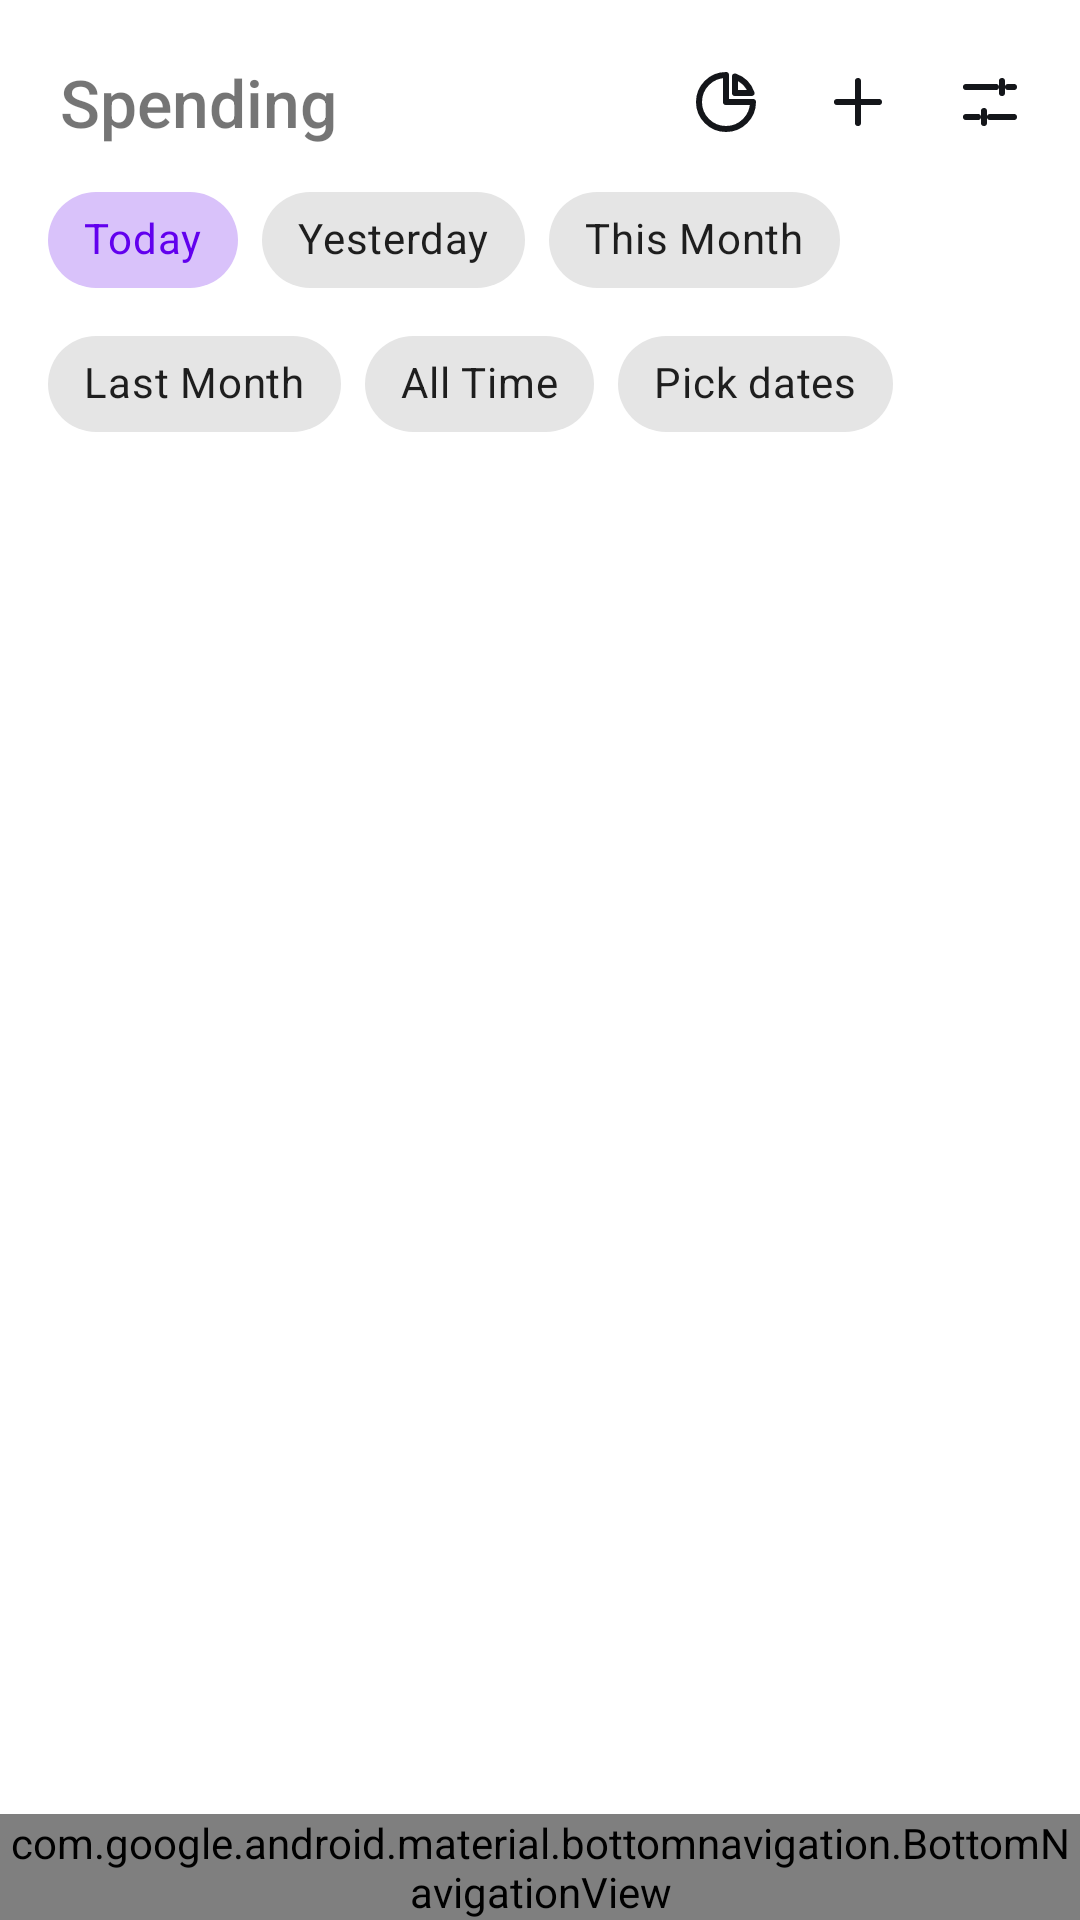

Named icons in this screenshot (1080×1920) and their centers, (x=x, y=y):
Add Expense: (x=858, y=102)
Budgets: (x=726, y=102)
Manage categories: (x=990, y=102)
